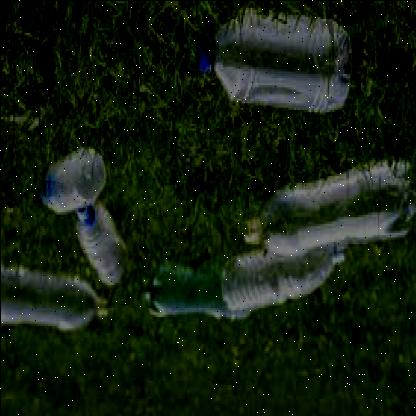Plastic Bottle: (244, 160, 416, 255), (195, 7, 351, 111), (222, 243, 344, 313), (0, 265, 107, 330), (141, 264, 248, 318), (37, 146, 105, 213), (75, 202, 124, 285)
